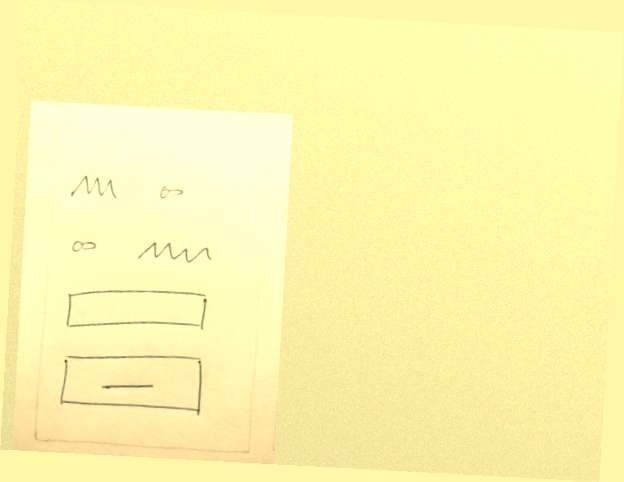button: (49, 345, 211, 419)
switch: (148, 178, 195, 204), (63, 228, 102, 257)
text: (127, 234, 221, 273), (61, 165, 123, 205)
text_input: (55, 279, 214, 334)
